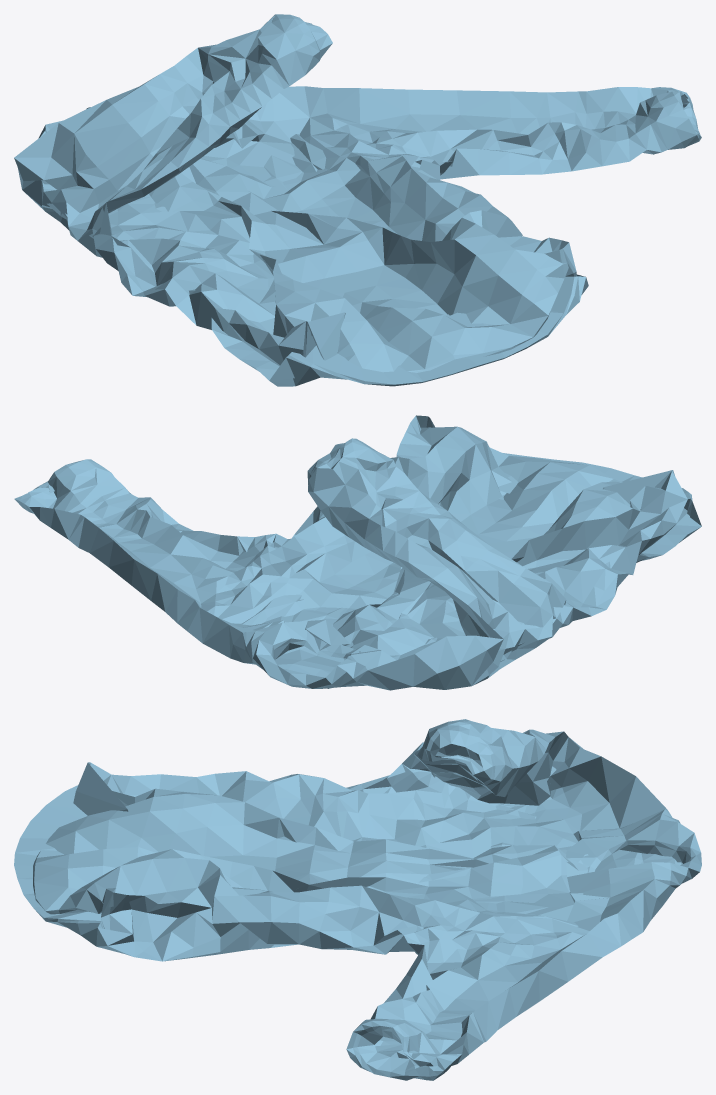
File: frame_18.glb
3 views of the same model, one above another, from view 1: azimuth 30°, elevation 25°; view 2: azimuth 150°, elevation 25°; view 3: azimuth 270°, elevation 25° (orthographic). The views are drawn at different scales.
Visible parts, largest first — view 1: frame_18.obj; view 2: frame_18.obj; view 3: frame_18.obj.
Part boxes in pixels (<box>): frame_18.obj: <box>14,14,701,386</box>; frame_18.obj: <box>14,415,701,690</box>; frame_18.obj: <box>14,719,701,1080</box>.
Size of the model in its own units: 1.41 by 0.4487 by 1.38.
